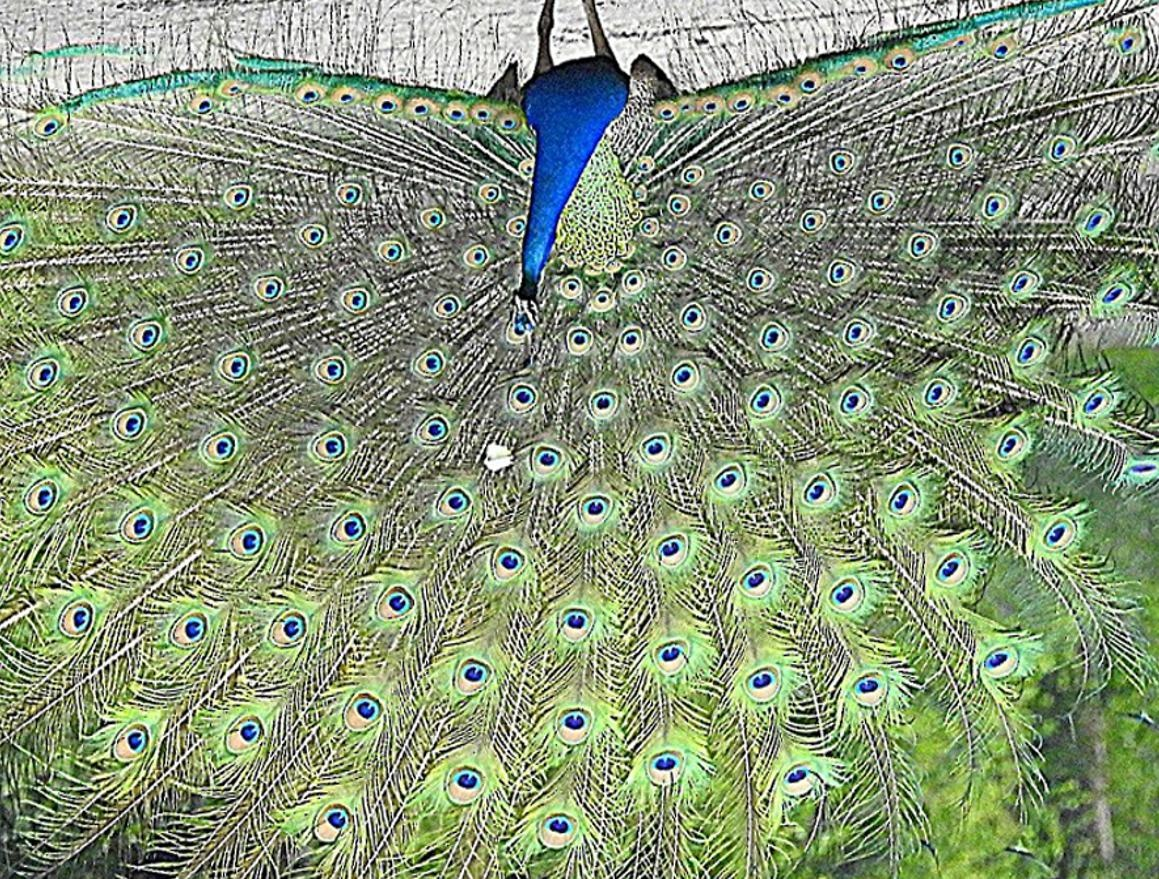peacock: (4, 19, 1159, 879)
